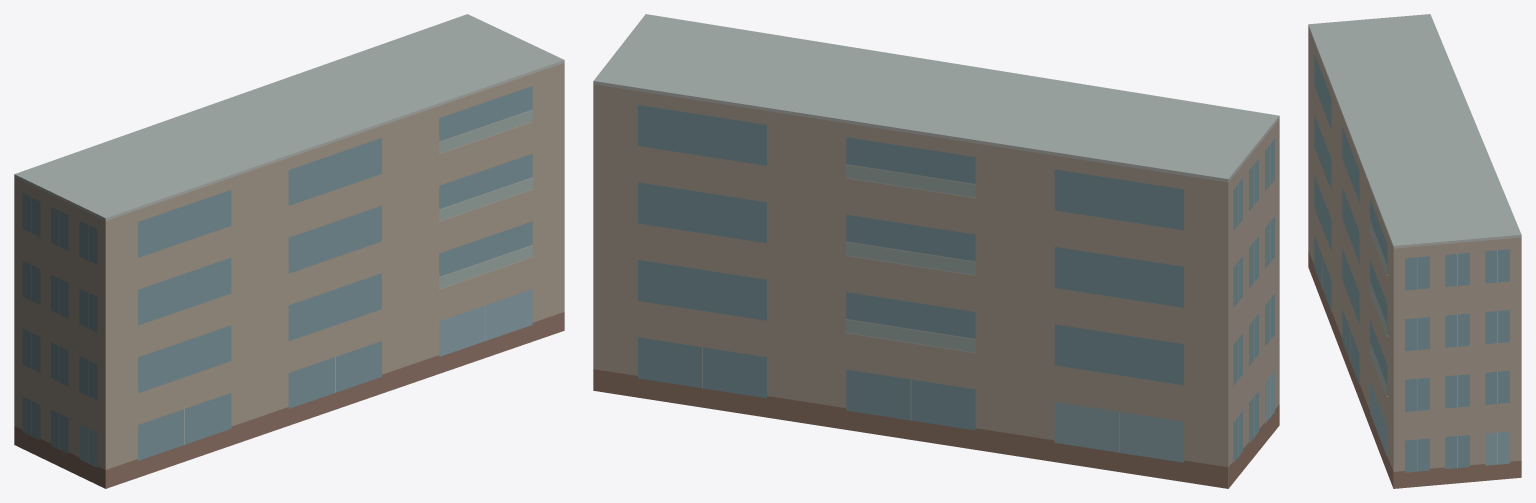
The model's file is survey-upis-32964884.glb.
The picture shows the model from 3 angles, left to right: view 1: azimuth 30°, elevation 25°; view 2: azimuth 150°, elevation 25°; view 3: azimuth 270°, elevation 25°; orthographic projection. The views are drawn at different scales.
Parts seen in each view (by area): view 1: survey-upis-32964884.tmp; view 2: survey-upis-32964884.tmp; view 3: survey-upis-32964884.tmp.
Part boxes in pixels (x1=…): survey-upis-32964884.tmp: x1=14, y1=14, x2=564, y2=488; survey-upis-32964884.tmp: x1=593, y1=14, x2=1279, y2=488; survey-upis-32964884.tmp: x1=1308, y1=14, x2=1521, y2=488.
Size of the model in its own units: 47.59 by 23.23 by 18.49.
